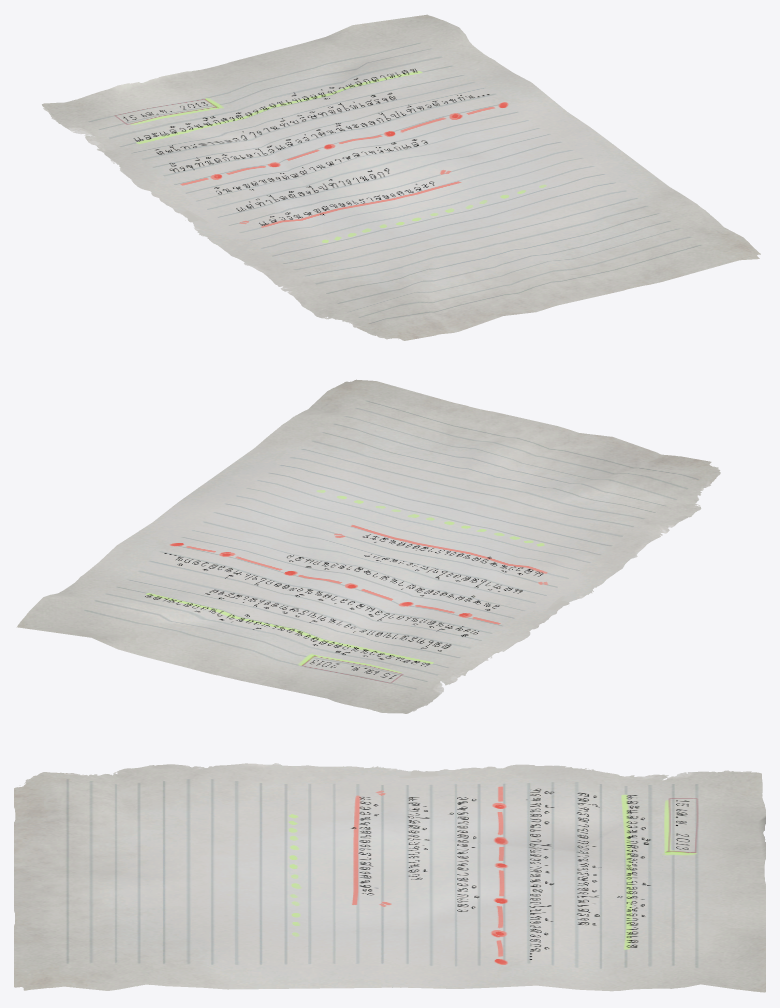
File: diary07.FBX
3 renders of one model, top to bottom at view 1: azimuth 30°, elevation 25°; view 2: azimuth 150°, elevation 25°; view 3: azimuth 270°, elevation 25°, orthographic. The views are drawn at different scales.
Parts seen in each view (by area): view 1: SM_Diary2; view 2: SM_Diary2; view 3: SM_Diary2.
Boxes of the visible parts, x1=… form: SM_Diary2: x1=42, y1=14, x2=760, y2=340; SM_Diary2: x1=16, y1=379, x2=720, y2=713; SM_Diary2: x1=14, y1=763, x2=765, y2=992.
Bounding box in the file's own units: 18.8 × 0.5262 × 26.3.
Materials: 1 (1 with a texture image).
